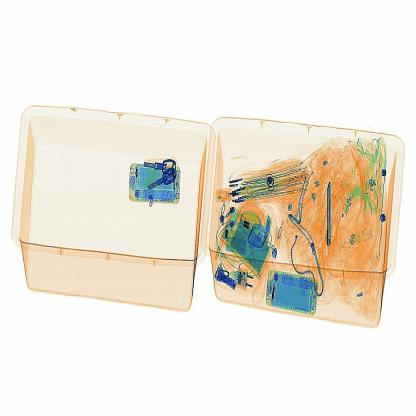pliers: (313, 174, 343, 252)
